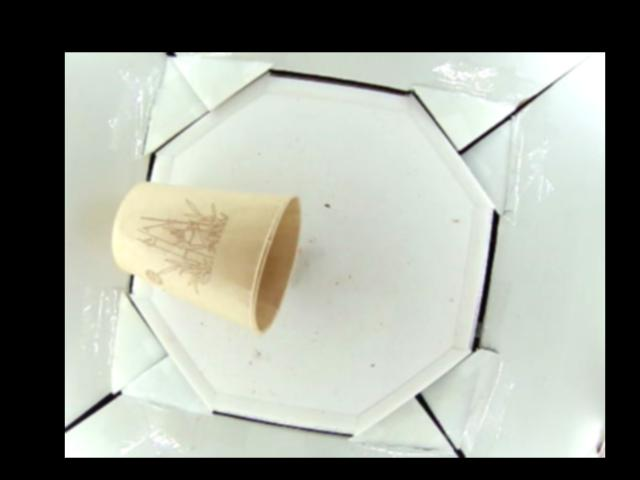Cup: (112, 181, 299, 331)
